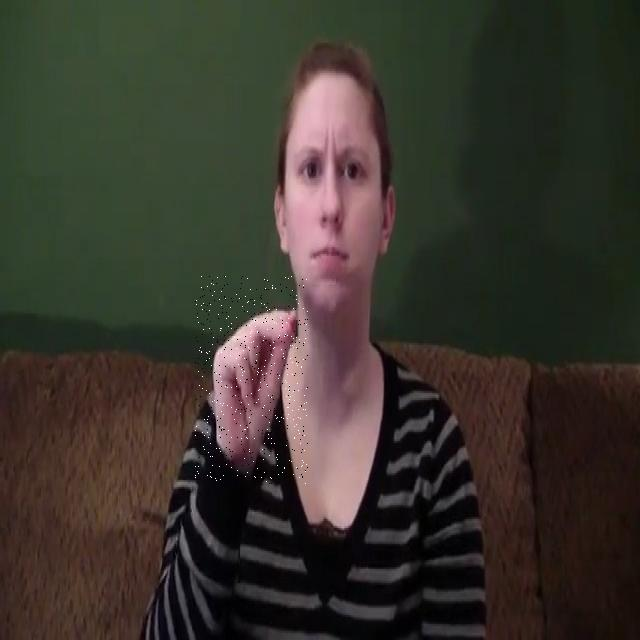no: (195, 276, 308, 484)
